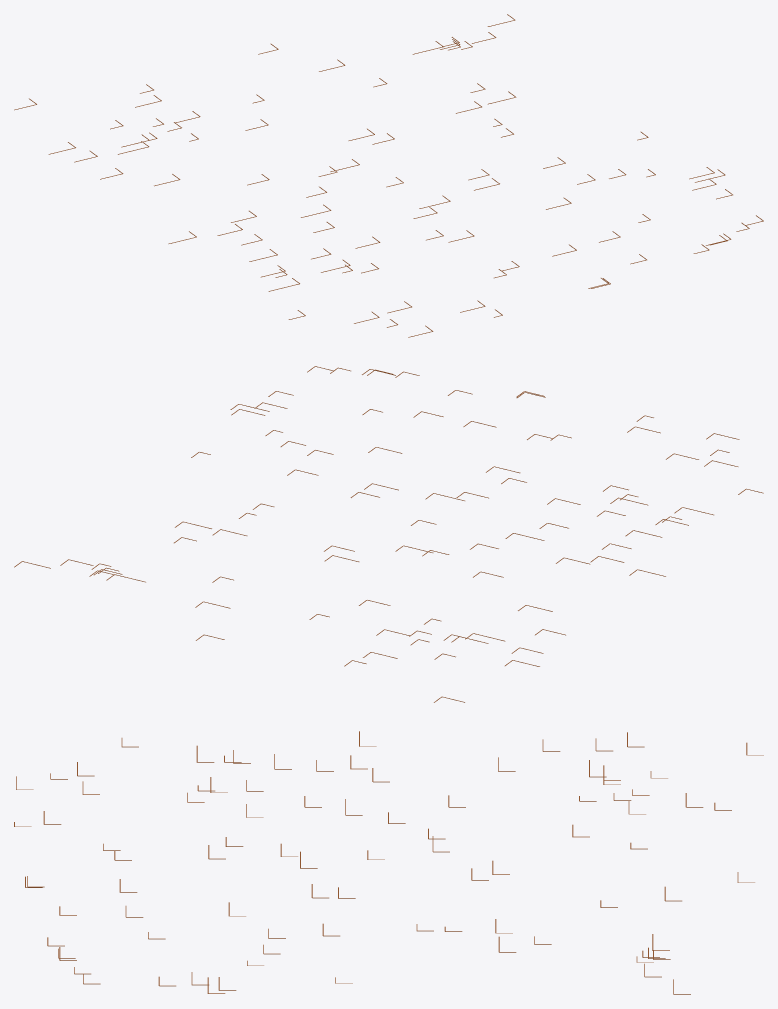
3 renders of one model, top to bottom at view 1: azimuth 30°, elevation 25°; view 2: azimuth 150°, elevation 25°; view 3: azimuth 270°, elevation 25°, orthographic. The views are drawn at different scales.
Visible parts, largest first — view 1: LAYER_03__Copper; view 2: LAYER_03__Copper; view 3: LAYER_03__Copper.
Boxes of the visible parts, <box> form: LAYER_03__Copper: <box>14,14,763,337</box>; LAYER_03__Copper: <box>14,366,763,702</box>; LAYER_03__Copper: <box>14,731,763,994</box>.
Bounding box in the file's own units: 217 × 0.09 × 262.
